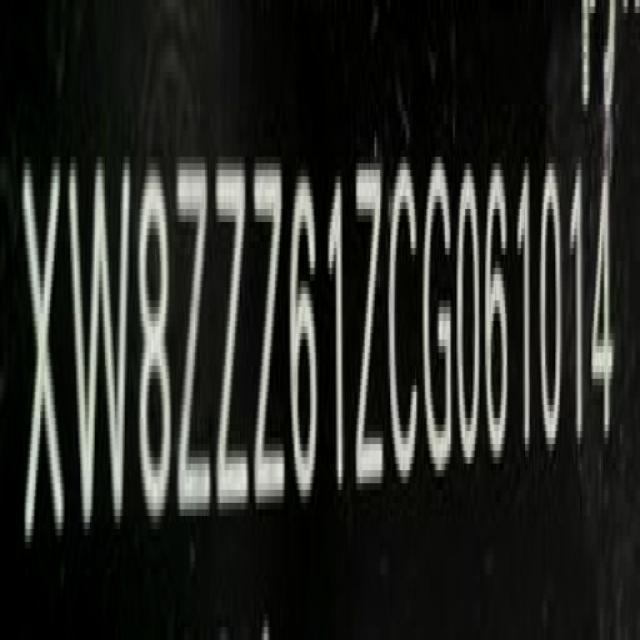0: (541, 156, 567, 465), (458, 160, 482, 477)
1: (326, 156, 346, 510), (568, 155, 586, 457), (518, 154, 533, 472)
4: (591, 153, 622, 454)
6: (291, 155, 324, 517), (484, 155, 510, 472)
8: (136, 155, 172, 540)
C: (390, 151, 420, 495)
G: (424, 153, 456, 486)
W: (70, 146, 132, 553)
X: (20, 148, 64, 570)
Z: (178, 152, 212, 536), (214, 148, 248, 526), (252, 150, 286, 521), (354, 150, 387, 503)
